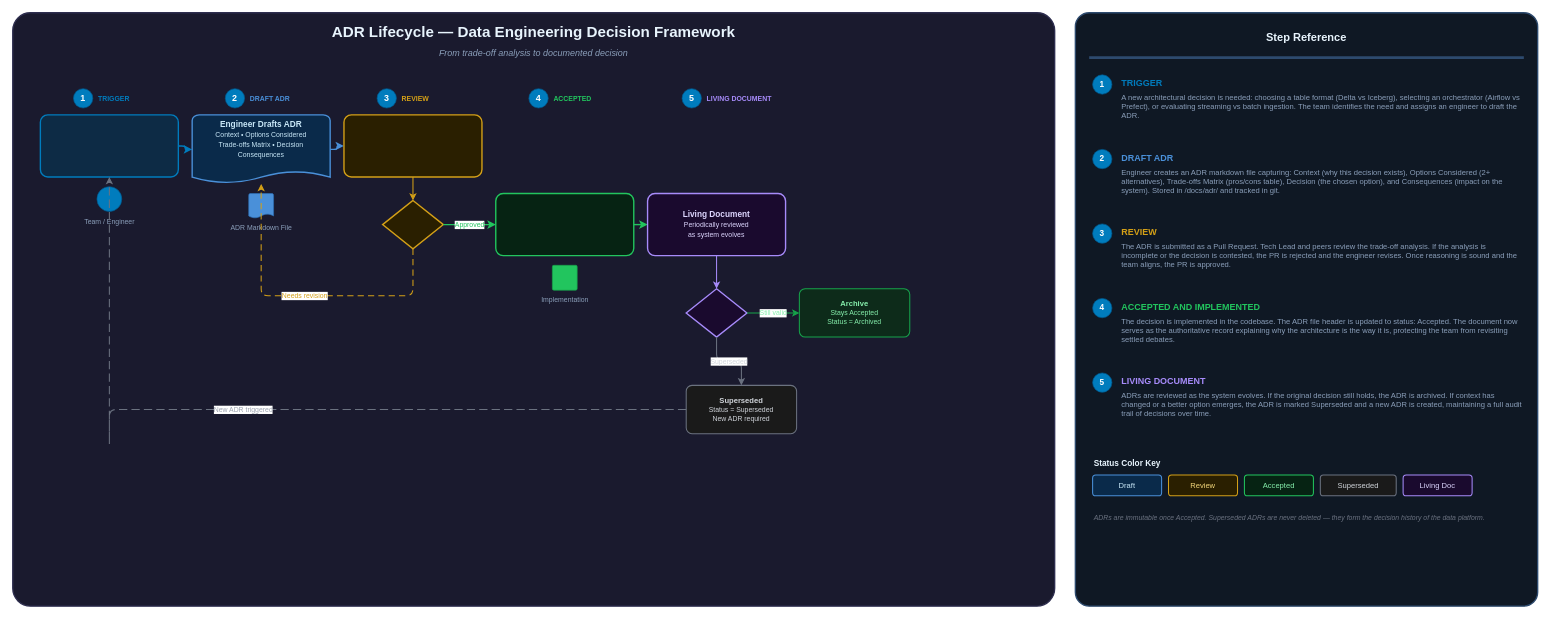
This 1550x618 diagram has some shape labels left out. The shapes that lost their labels are listed below. From the top down, each one's centre as x and y in pixels, then its label:
At [109,145]: "Architectural Decision Needed Table format? Orchestrator? Streaming vs Batch?".
At [412,145]: "PR Review Process Tech Lead + Peers Review Trade-off Analysis".
At [413,224]: "Approved?".
At [564,224]: "Accepted & Implemented Decision executed in codebase ADR status = Accepted".
At [716,312]: "Still Valid?".
